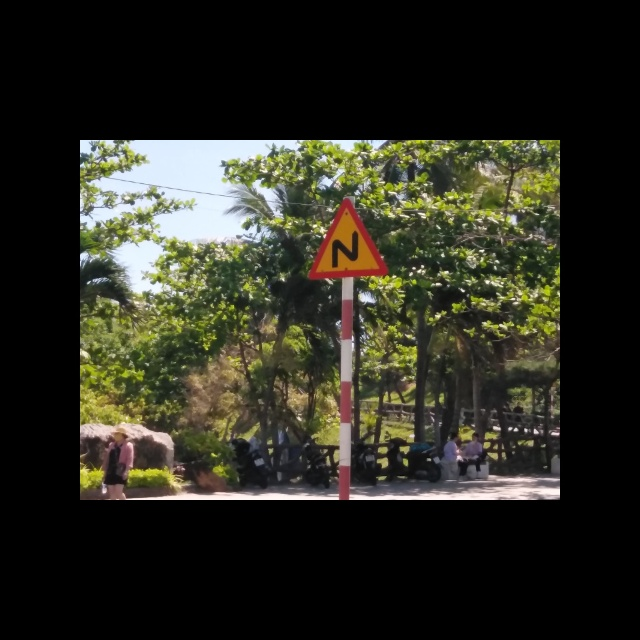Ngoặt nguy hiểm liên tiếp bên phải: (307, 196, 389, 282)
